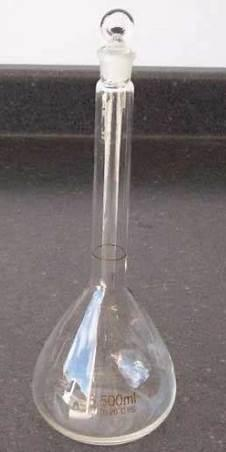Volumetric flask: (27, 6, 181, 440)
